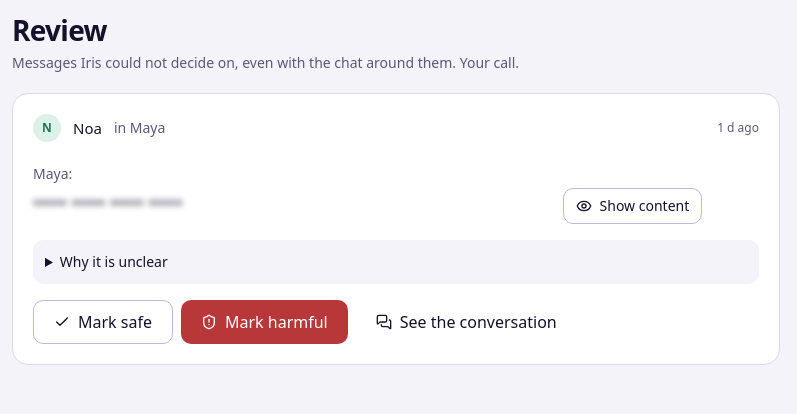
Test case: shows the message with who and where, and explains why it is unclear on request
Expected: the text "in Maya" is shown, [114,118,165,138]
Expected: the text "lol you're dead meat" is not shown
Click the button "Show content".
click(632, 206)  # box [563,188,702,224]
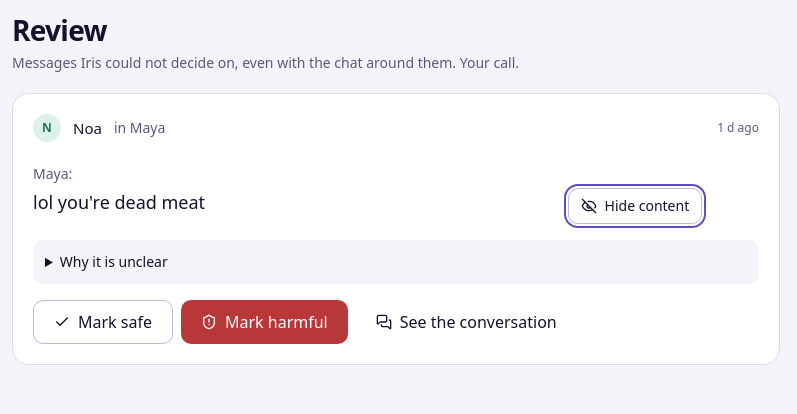
Result: the text "lol you're dead meat" is shown at [33,190,205,214]
Click the heading "Why it is unclear".
click(114, 261)  # box [60,252,168,271]
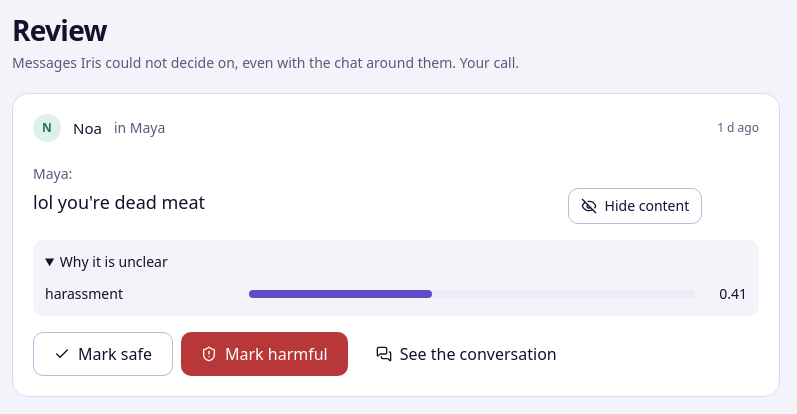
Result: the text "harassment" is shown at [45,284,123,303]
